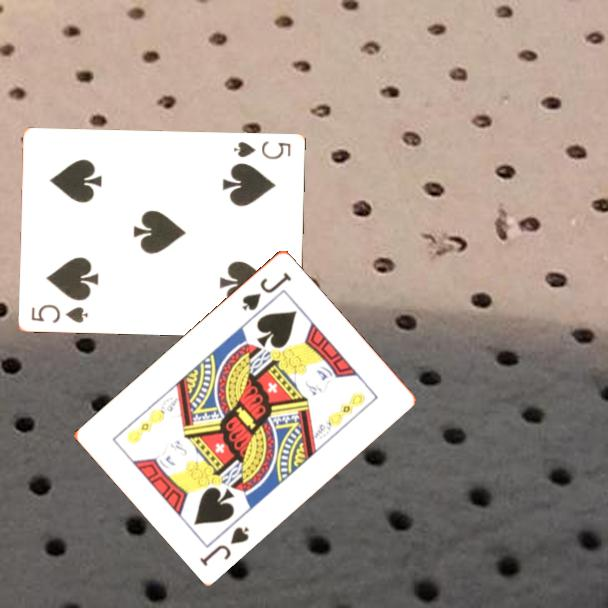s05: (231, 137, 294, 162), (28, 300, 91, 325)
s11: (196, 522, 252, 569), (238, 268, 295, 313)
